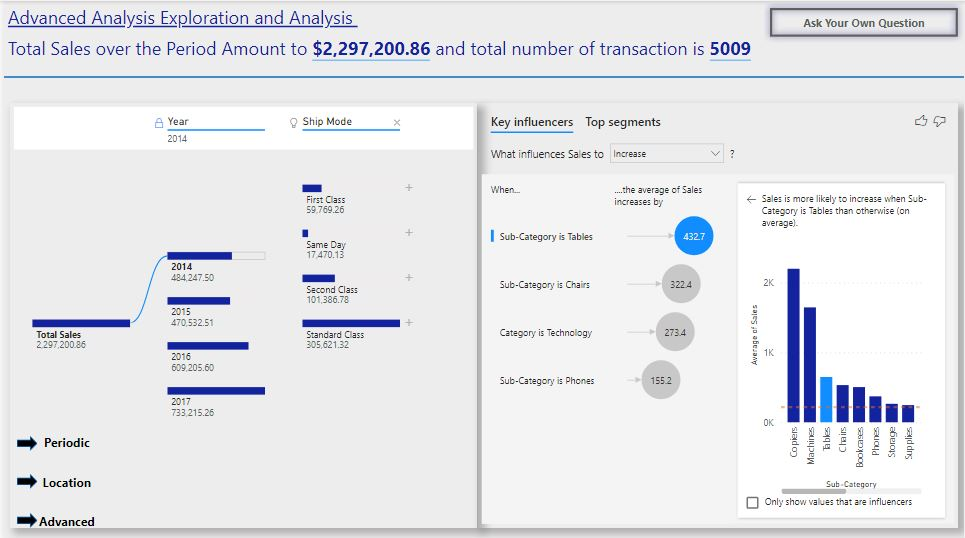

The page's visual inventory and layout, read from the dashboard file:
{"tool":"powerbi","page":{"name":"Advanced Analysis","canvas":[1280,720],"ordinal":2},"visuals":[{"type":"textbox","box":[0,0,885.7,56.1],"z":0},{"type":"textbox","box":[0,40.9,1029.8,54.6],"z":1000},{"type":"shape","box":[0,95.5,1280,10.6],"z":4000},{"type":"actionButton","title":"Go back to default","box":[1013.8,0,266.2,52.8],"z":6000},{"type":"qnaVisual","box":[22.3,123.9,1233.3,556.7],"z":7000}]}

Visuals, with their boxes in screenshot pixels (x1, y1, x2, y2), scaled from the page's 1280x720 canvas onto the 965x538 screenshot:
textbox: x1=0, y1=0, x2=668, y2=42
textbox: x1=0, y1=31, x2=776, y2=71
shape: x1=0, y1=71, x2=964, y2=79
"Go back to default" actionButton: x1=764, y1=0, x2=964, y2=39
qnaVisual: x1=17, y1=93, x2=947, y2=509
